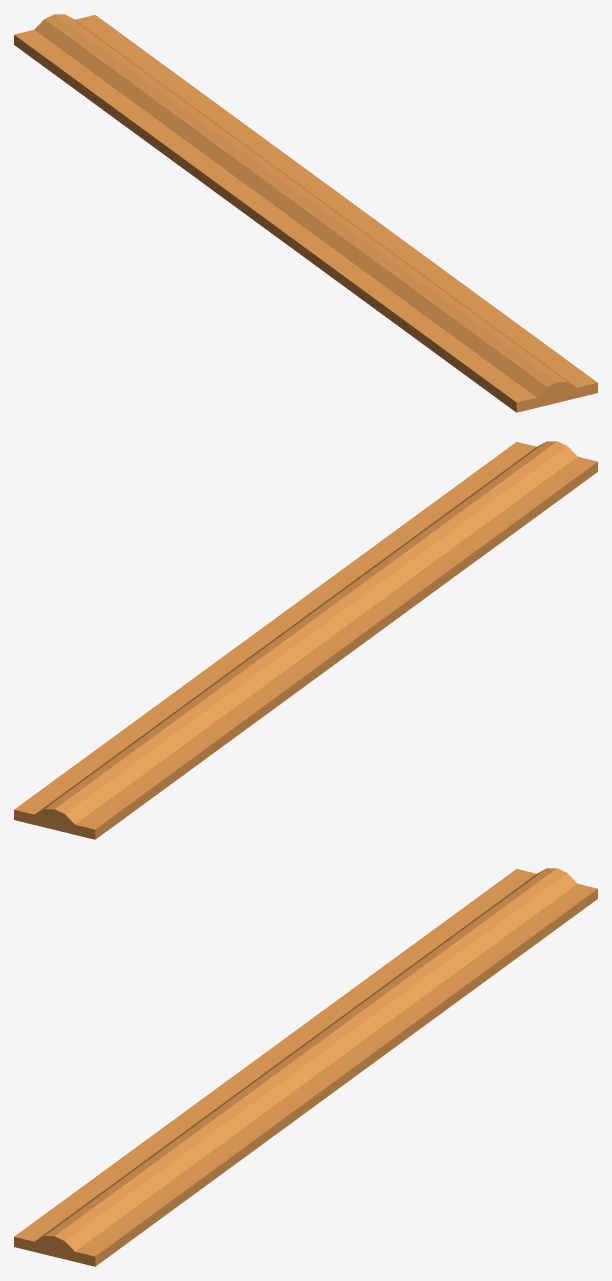
The model's file is 1ZonaTrigo.fbx.
3 renders of one model, top to bottom at view 1: azimuth 30°, elevation 25°; view 2: azimuth 150°, elevation 25°; view 3: azimuth 330°, elevation 25°, orthographic.
Visible parts, largest first — view 1: Cube.002; view 2: Cube.002; view 3: Cube.002.
Boxes of the visible parts, bbox=[...] form: Cube.002: bbox=[14, 14, 597, 412]; Cube.002: bbox=[14, 441, 597, 839]; Cube.002: bbox=[14, 868, 597, 1266].
Size of the model in its own units: 217 by 52.79 by 2322.
